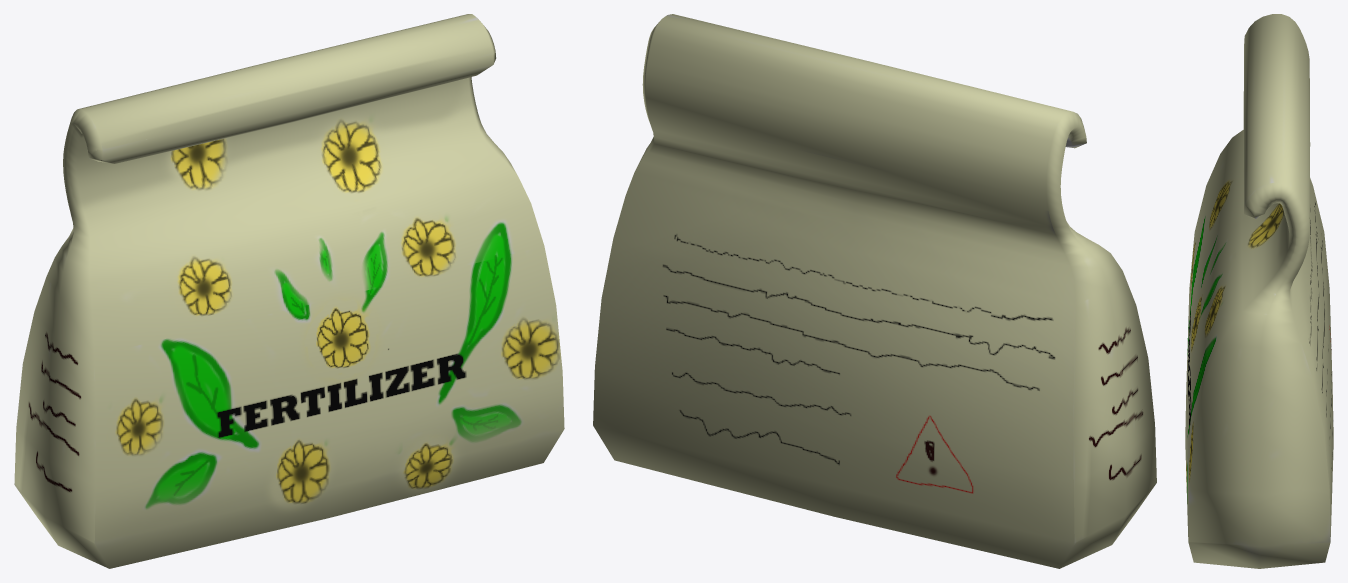
Rendered from fertilizer.fbx.
3 views of the same model, side by side, from view 1: azimuth 30°, elevation 25°; view 2: azimuth 150°, elevation 25°; view 3: azimuth 270°, elevation 25° (orthographic). The views are drawn at different scales.
Parts seen in each view (by area): view 1: Cube; view 2: Cube; view 3: Cube.
Boxes of the visible parts, <box> form: Cube: <box>14,14,564,568</box>; Cube: <box>593,14,1156,568</box>; Cube: <box>1185,14,1333,568</box>.
Size of the model in its own units: 215 by 182 by 63.59.
